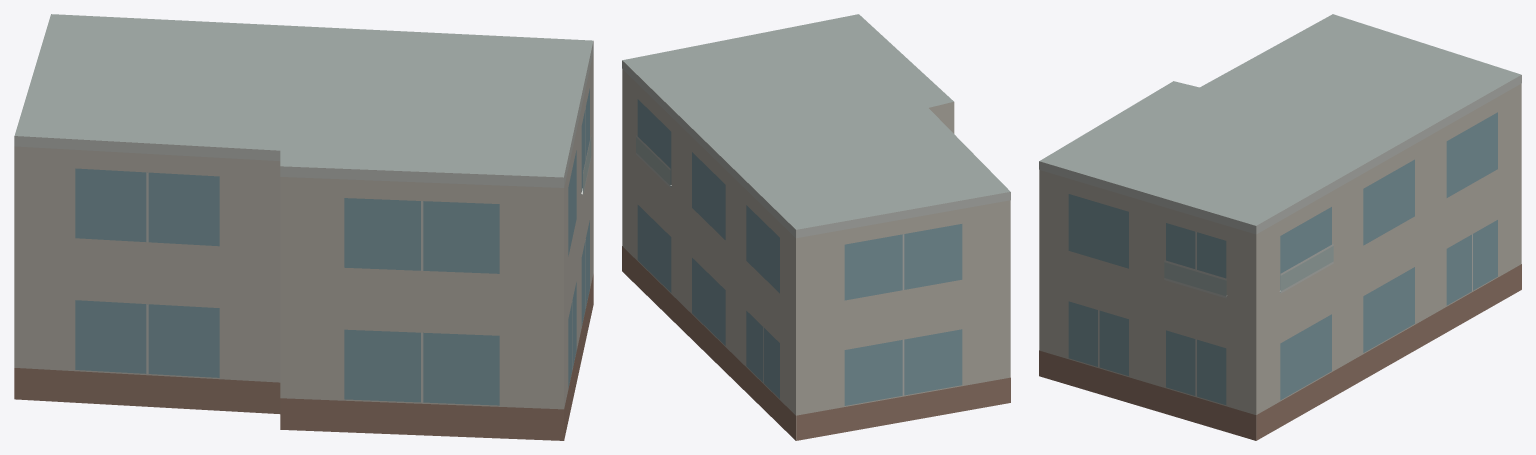
The model's file is survey-upis-32818104.glb.
The picture shows the model from 3 angles, left to right: view 1: azimuth 30°, elevation 25°; view 2: azimuth 150°, elevation 25°; view 3: azimuth 270°, elevation 25°; orthographic projection. The views are drawn at different scales.
Parts seen in each view (by area): view 1: survey-upis-32818104.tmp; view 2: survey-upis-32818104.tmp; view 3: survey-upis-32818104.tmp.
Part boxes in pixels (bbox=[...]): survey-upis-32818104.tmp: bbox=[14, 14, 593, 440]; survey-upis-32818104.tmp: bbox=[622, 14, 1010, 440]; survey-upis-32818104.tmp: bbox=[1039, 14, 1521, 440].
Size of the model in its own units: 12.91 by 6.1 by 12.42.
